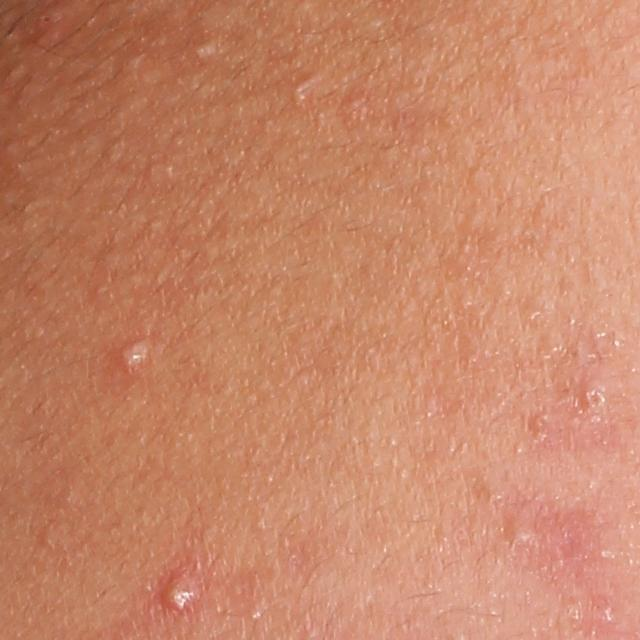comedo: (285, 75, 321, 108), (188, 34, 215, 66)
pustule: (149, 568, 206, 616), (120, 336, 160, 381)
